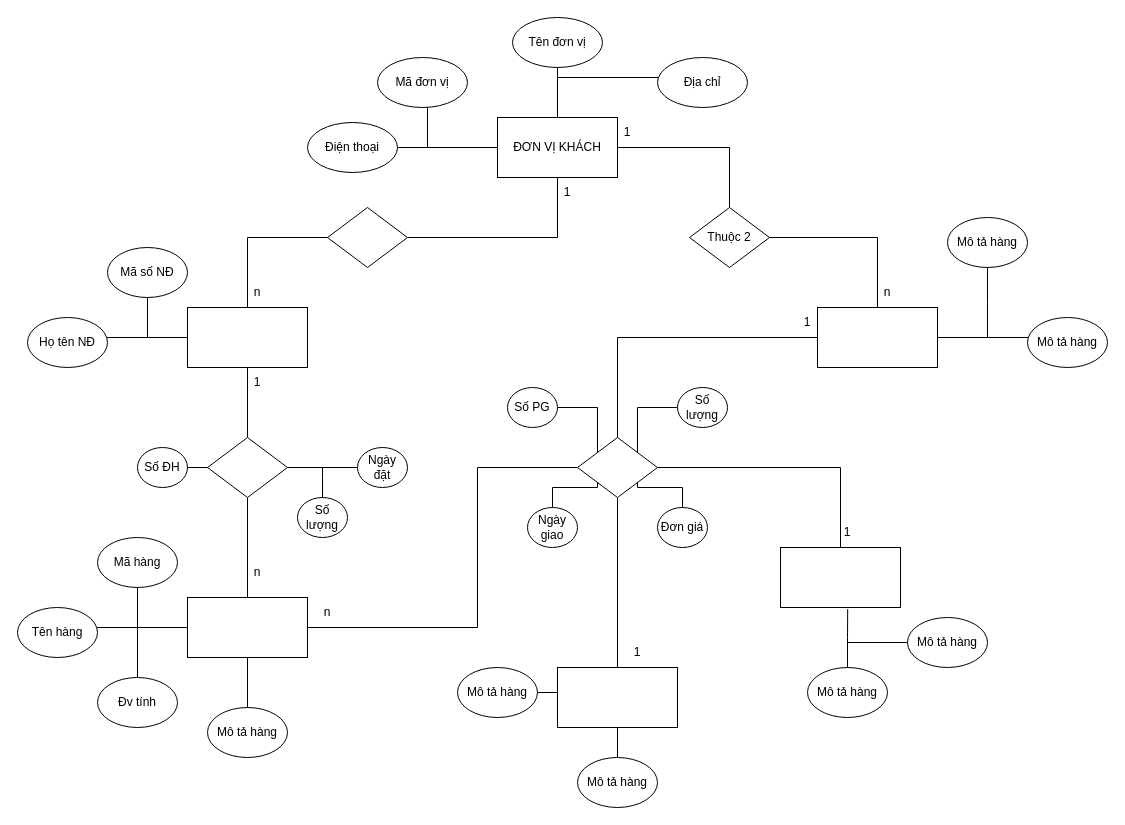
This 1125x825 diagram has some shape labels left out. Each missing label, with the centre of its shape:
"Giao" belongs at (x=617, y=467).
"HÀNG" belongs at (x=247, y=627).
"NGƯỜI GIAO" belongs at (x=617, y=697).
"NGƯỜI NHẬN" belongs at (x=877, y=337).
"NGƯỜI ĐẶT" belongs at (x=247, y=337).
"NƠI GIAO" belongs at (x=840, y=577).
"Thuộc 1" belongs at (x=367, y=237).
"Đặt" belongs at (x=247, y=467).
